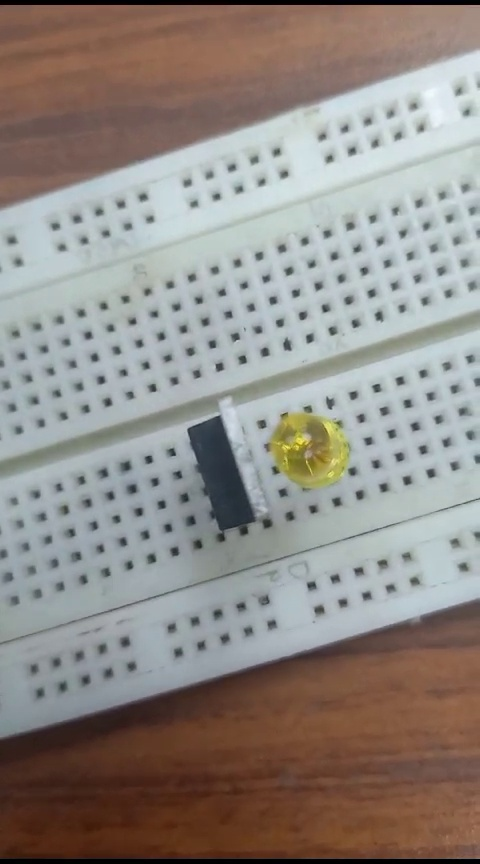LED: (276, 408, 348, 493)
voltage regulator: (178, 393, 267, 544)
